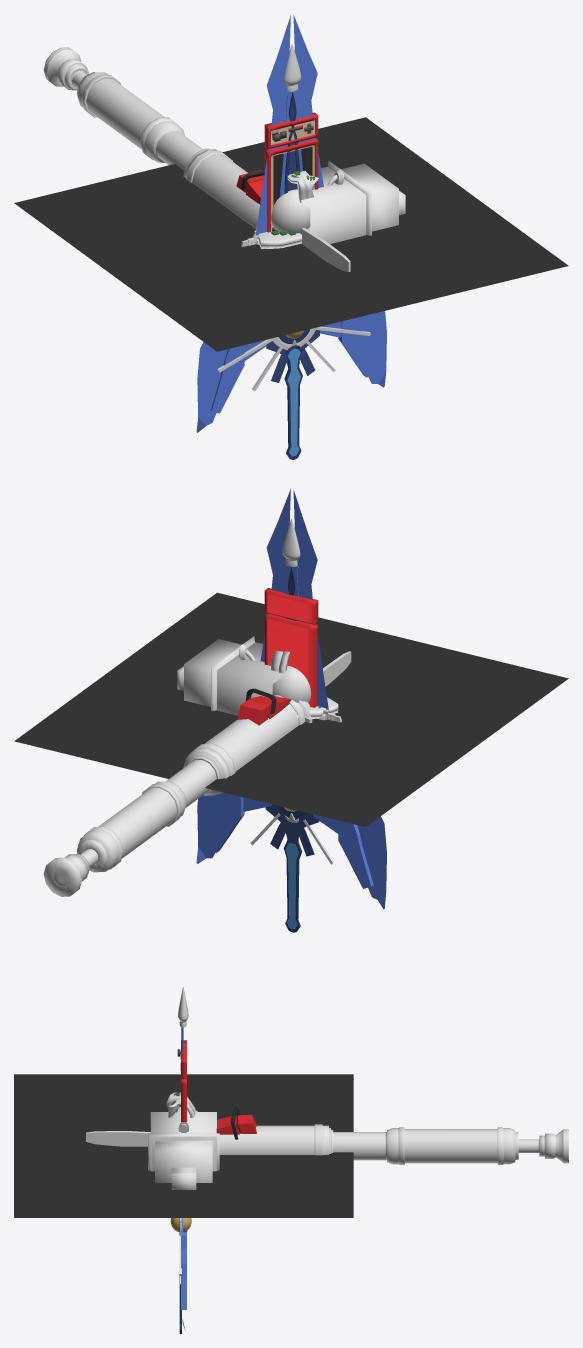
Rendered from edge.fbx.
3 views of the same model, one above another, from view 1: azimuth 30°, elevation 25°; view 2: azimuth 150°, elevation 25°; view 3: azimuth 270°, elevation 25° (orthographic). The views are drawn at different scales.
Visible parts, largest first — view 1: Plane, Cube.018, Cube.004, Circle.001, Circle.004, Cube.015, Phone, Cube.017, GlowyBall, Phone2, Circle.005, Cube.011 (+3 smaller); view 2: Plane, Cube.018, Circle.004, Circle.001, Cube.004, Cube.015, Phone, Phone2, Cube.017, Plane.003, Cube.009, GlowyBall (+1 smaller); view 3: Plane, Circle.001, Cube.004, Circle.004, Cube.011, Cube.009, Cube.015.
Part boxes in pixels (<box>): Plane: <box>14,117,568,351</box>; Cube.018: <box>196,15,386,432</box>; Cube.004: <box>301,161,405,243</box>; Circle.001: <box>86,78,259,228</box>; Circle.004: <box>43,47,256,230</box>; Cube.015: <box>210,89,374,413</box>; Phone: <box>264,138,318,232</box>; Cube.017: <box>284,345,302,459</box>; GlowyBall: <box>271,189,310,233</box>; Phone2: <box>264,112,318,148</box>; Circle.005: <box>217,326,370,391</box>; Cube.011: <box>299,228,348,271</box>; Plane: <box>14,592,568,826</box>; Cube.018: <box>196,489,386,909</box>; Circle.004: <box>43,695,312,896</box>; Circle.001: <box>98,704,299,858</box>; Cube.004: <box>177,636,283,715</box>; Cube.015: <box>208,564,373,888</box>; Phone: <box>264,613,318,707</box>; Phone2: <box>264,588,318,624</box>; Cube.017: <box>283,837,302,932</box>; Plane.003: <box>265,804,319,856</box>; Cube.009: <box>237,688,291,725</box>; GlowyBall: <box>272,665,310,702</box>; Plane: <box>14,1074,353,1217</box>; Circle.001: <box>219,1125,497,1163</box>; Cube.004: <box>148,1112,219,1189</box>; Circle.004: <box>314,1124,568,1164</box>; Cube.011: <box>86,1132,147,1146</box>; Cube.009: <box>216,1107,256,1139</box>; Cube.015: <box>181,1027,186,1309</box>.
Size of the model in its own units: 1621 by 1955 by 2647.
